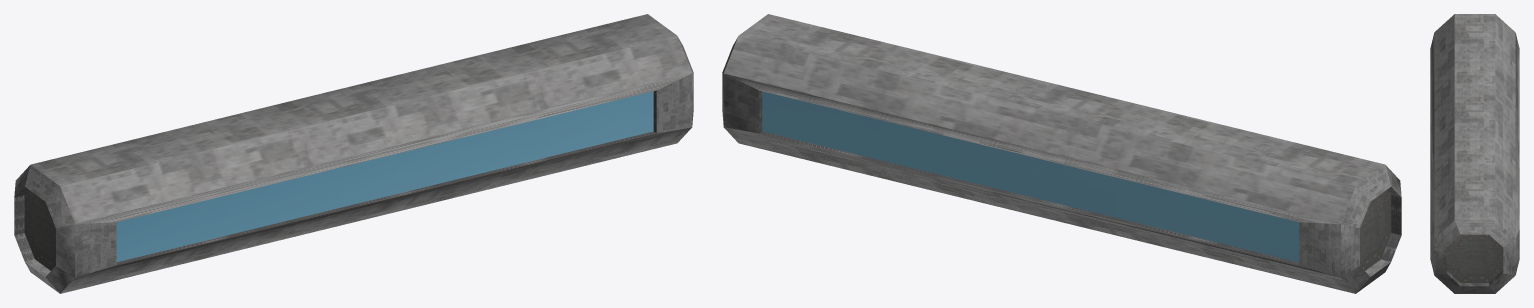
The model's file is Couloir.FBX.
3 renders of one model, left to right at view 1: azimuth 30°, elevation 25°; view 2: azimuth 150°, elevation 25°; view 3: azimuth 270°, elevation 25°, orthographic. The views are drawn at different scales.
Parts seen in each view (by area): view 1: Cube_3; view 2: Cube_3; view 3: Cube_3.
Boxes of the visible parts, bbox=[...] form: Cube_3: bbox=[14, 14, 693, 293]; Cube_3: bbox=[722, 14, 1401, 293]; Cube_3: bbox=[1430, 14, 1519, 293].
Size of the model in its own units: 3150 by 508 by 559.
